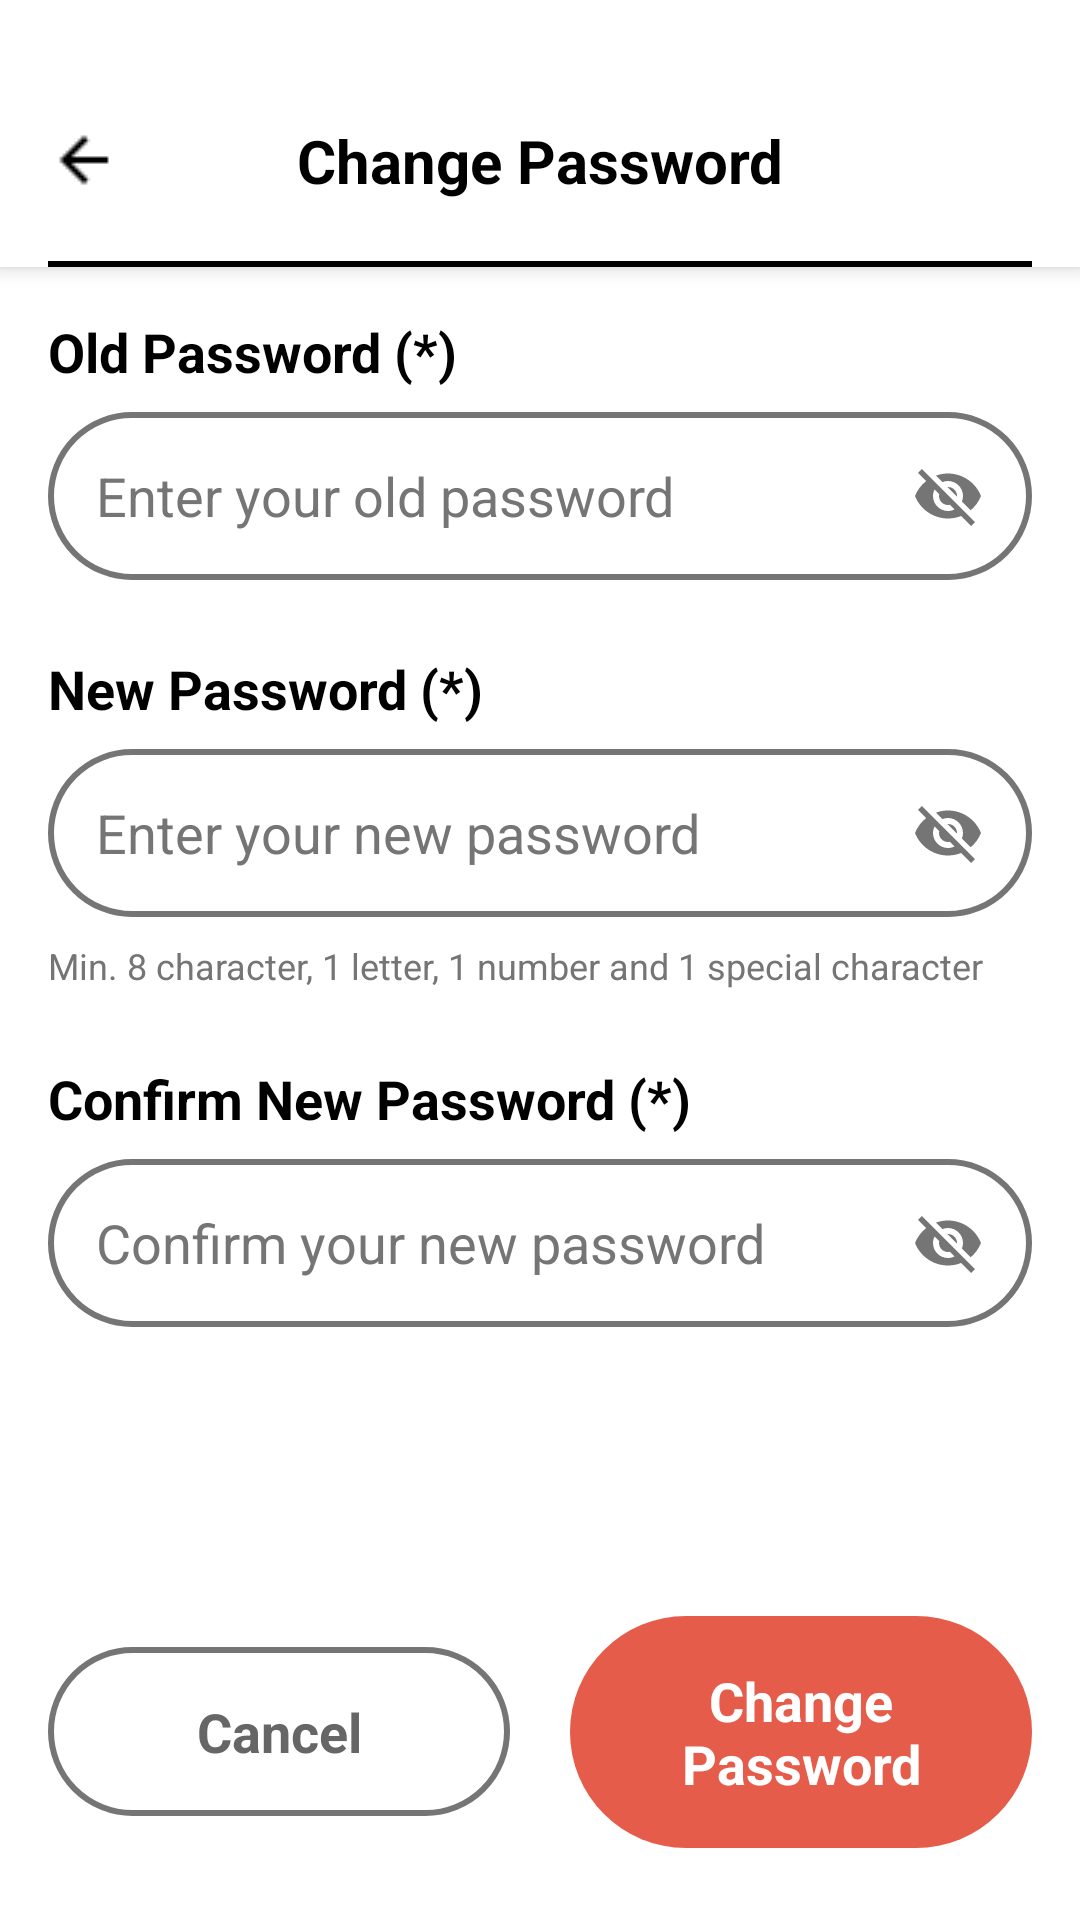

Point at icon controls on the screen. Image size 1080px×1920px, points as [x,y].
Back: [84,160]
Show/Hide password: [948,497], [948,834], [948,1244]
